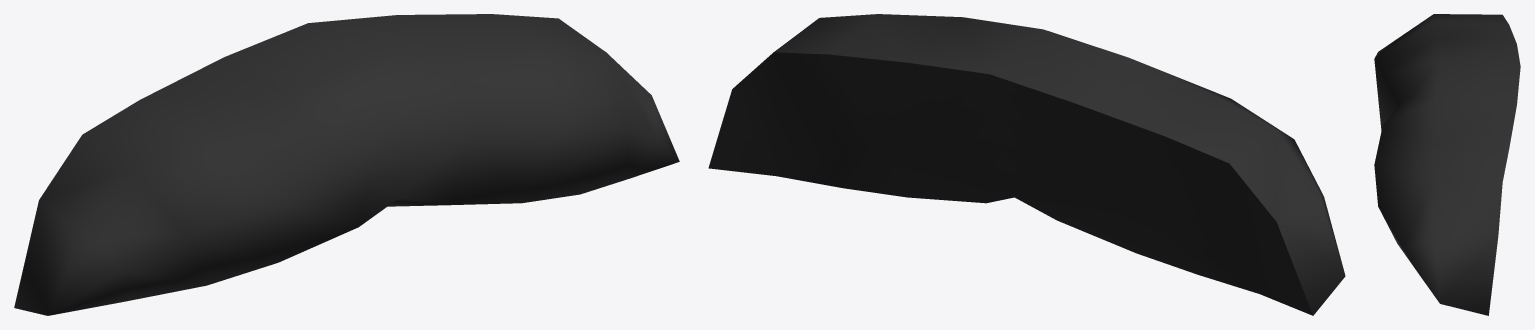
The model's file is Beard_Black_4.fbx.
The picture shows the model from 3 angles, left to right: view 1: azimuth 30°, elevation 25°; view 2: azimuth 150°, elevation 25°; view 3: azimuth 270°, elevation 25°; orthographic projection. The views are drawn at different scales.
Visible parts, largest first — view 1: Beard_Black_4; view 2: Beard_Black_4; view 3: Beard_Black_4.
Part boxes in pixels (x1,y1,x2,y2): Beard_Black_4: (14, 14, 679, 315); Beard_Black_4: (708, 14, 1345, 315); Beard_Black_4: (1374, 14, 1520, 315).
Bounding box in the file's own units: 26.47 × 7.9 × 7.36.
